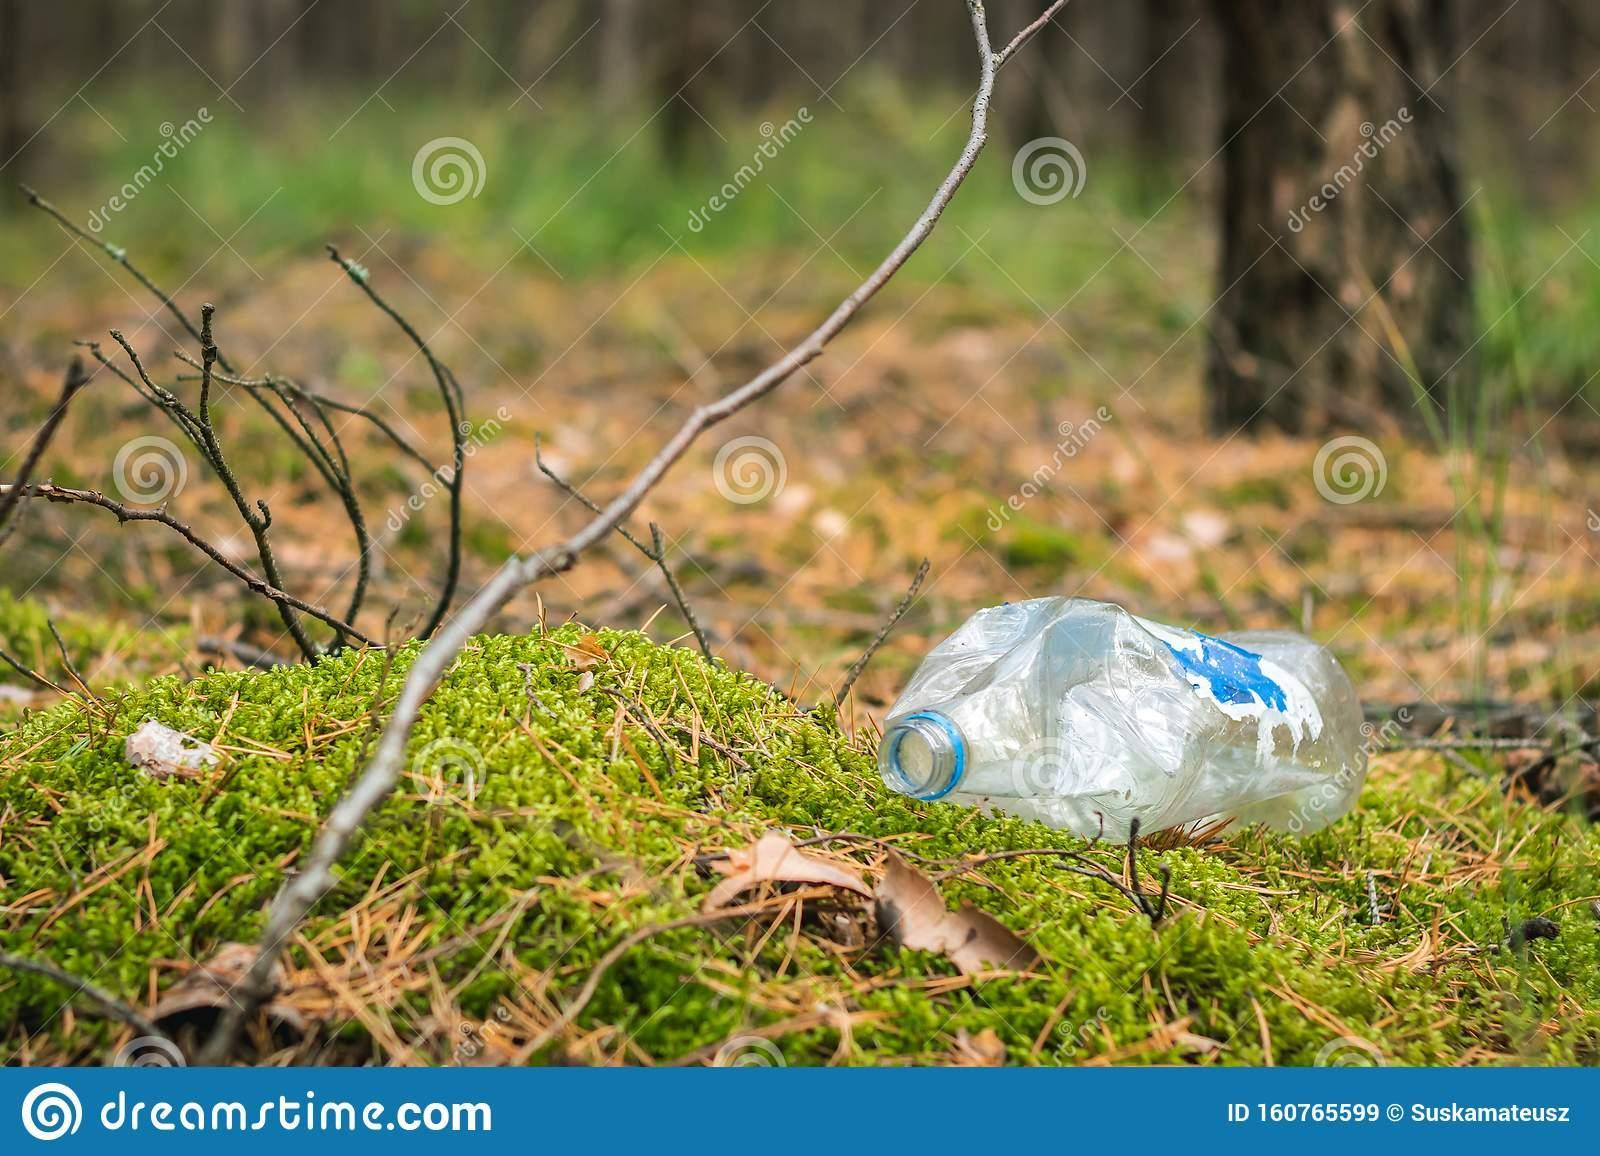bottle: (858, 560, 1394, 880)
